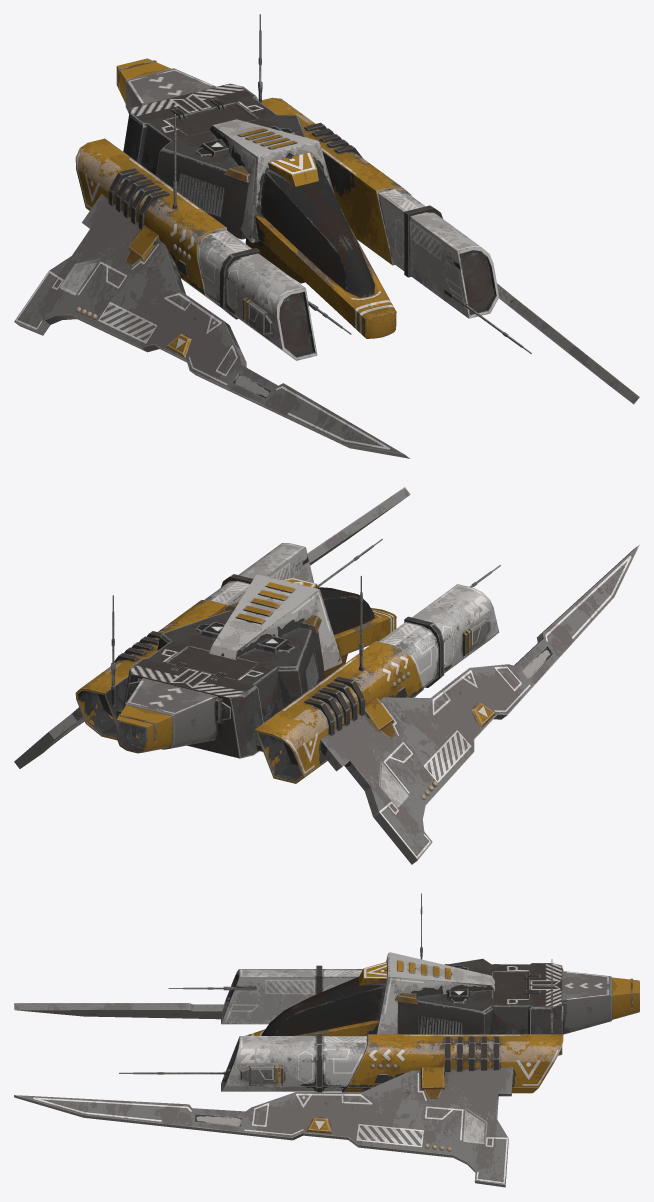
The model's file is Striker.gltf.
3 renders of one model, top to bottom at view 1: azimuth 30°, elevation 25°; view 2: azimuth 150°, elevation 25°; view 3: azimuth 270°, elevation 25°, orthographic. The views are drawn at different scales.
Parts seen in each view (by area): view 1: Striker; view 2: Striker; view 3: Striker.
Boxes of the visible parts, x1=… form: Striker: x1=14, y1=14, x2=639, y2=458; Striker: x1=14, y1=487, x2=639, y2=864; Striker: x1=14, y1=893, x2=639, y2=1187.
Size of the model in its own units: 5.03 by 2.68 by 8.43.
Materials: 1 (1 with a texture image).
